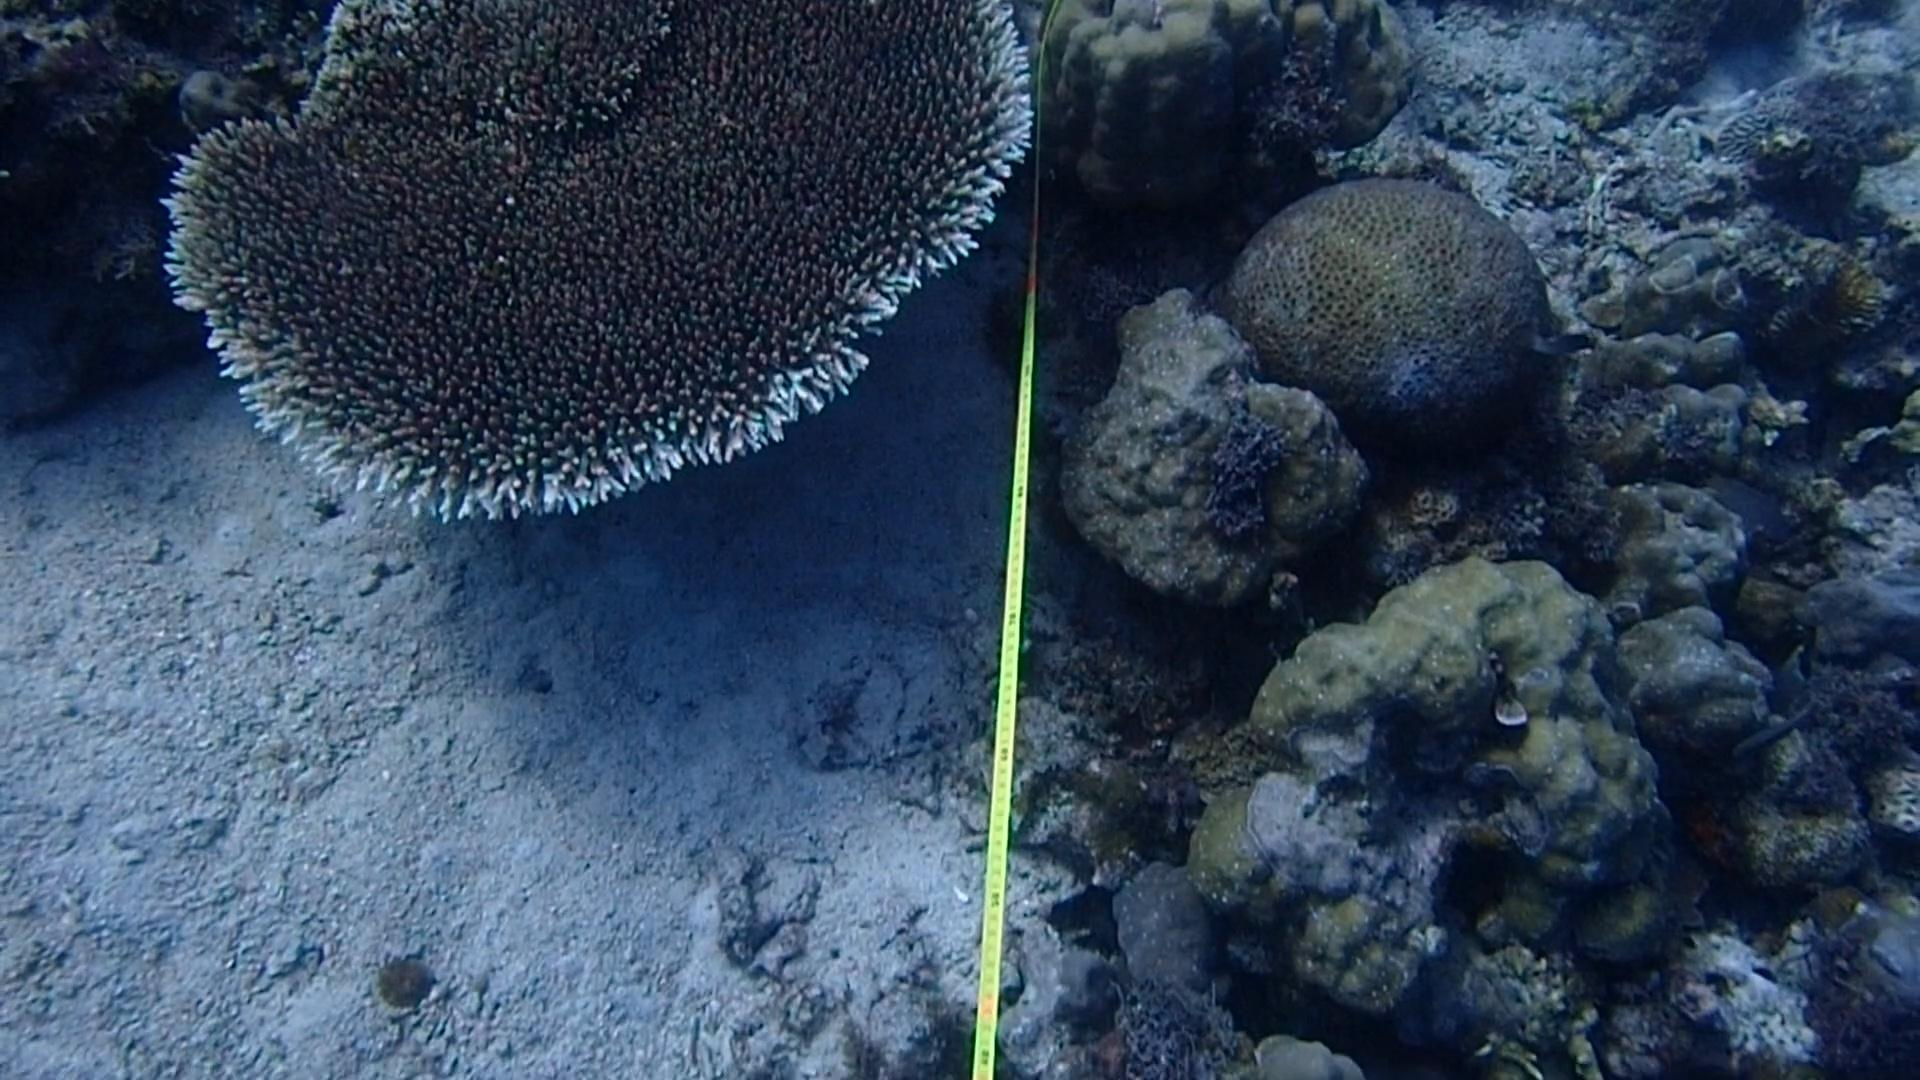Light Fish: (1507, 313, 1611, 382), (1720, 698, 1821, 767)
